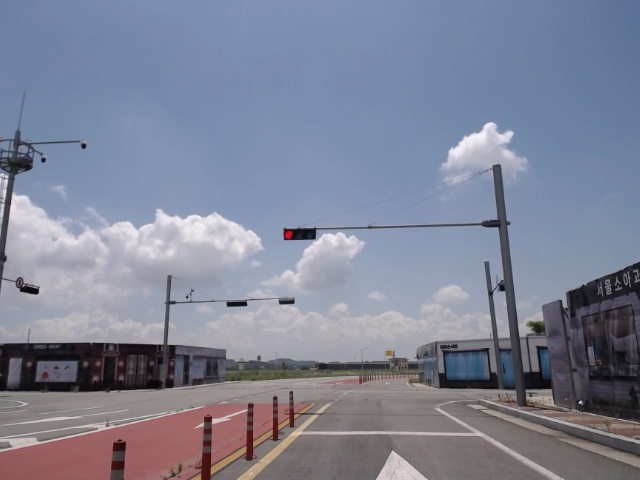red_3: (283, 227, 318, 242)
